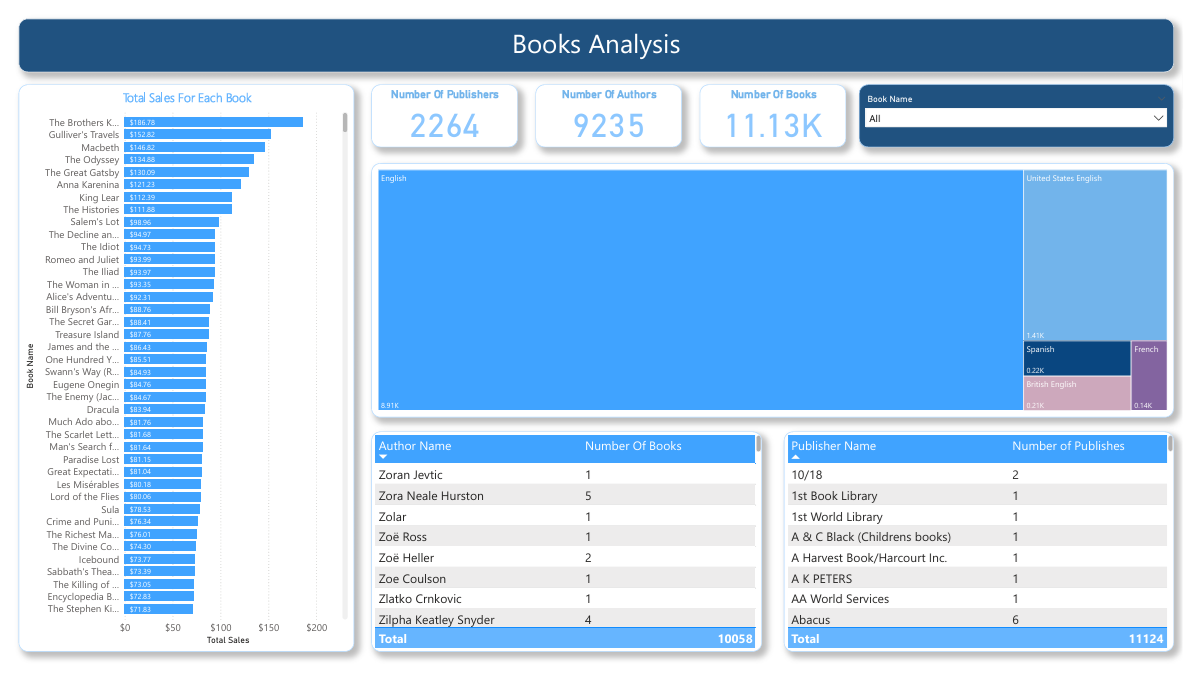

This screenshot's page, from the dashboard's own definition file:
{"tool":"powerbi","page":{"name":"Books","canvas":[1920,1080],"ordinal":1},"visuals":[{"type":"treemap","fields":{"Group":["Dim_Books.language_name"],"Values":["CountNonNull(Dim_Books.book_id_sk)"]},"box":[591.4,250,1314.3,417.1],"z":0},{"type":"tableEx","fields":{"Values":["Dim_Authors.author_name","Dim_Books.book_id_sk"]},"box":[591.4,690,640,361.4],"z":1000},{"type":"card","title":"Number Of Authors","fields":{"Values":["Count(Dim_Authors.author_bk)"]},"box":[860,121.4,240,102.9],"z":2000},{"type":"card","title":"Number Of Books","fields":{"Values":["Count(Dim_Books.bookid_bk)"]},"box":[1128.6,121.4,240,102.9],"z":3000},{"type":"tableEx","fields":{"Values":["Dim_Books.cleaned_publisher_names","CountNonNull(Dim_Books.publisher_name)"]},"box":[1267.1,690,638.6,361.4],"z":4000},{"type":"card","title":"Number Of Publishers","fields":{"Values":["Count(Dim_Books.publisher_bk)"]},"box":[591.4,121.4,240,102.9],"z":5000},{"type":"barChart","title":"Total Sales For Each Book","fields":{"Category":["Dim_Books.title"],"Y":["Fact_sales.Total Sales"]},"box":[12.9,121.4,550,930],"z":6000},{"type":"textbox","box":[13.4,13.4,1892.5,88.1],"z":7000},{"type":"slicer","fields":{"Values":["Dim_Books.title"]},"box":[1390,121.4,515.7,102.9],"z":8000}]}

Visuals, with their boxes in screenshot pixels (x1, y1, x2, y2), scaled from the page's 1920x1080 canvas onto the 1194x681 screenshot:
treemap - Dim_Books.language_name x CountNonNull(Dim_Books.book_id_sk): [368,158,1185,421]
tableEx - Dim_Authors.author_name x Dim_Books.book_id_sk: [368,435,766,663]
"Number Of Authors" card: [535,77,684,141]
"Number Of Books" card: [702,77,851,141]
tableEx - Dim_Books.cleaned_publisher_names x CountNonNull(Dim_Books.publisher_name): [788,435,1185,663]
"Number Of Publishers" card: [368,77,517,141]
"Total Sales For Each Book" barChart: [8,77,350,663]
textbox: [8,8,1185,64]
slicer - Dim_Books.title: [864,77,1185,141]
